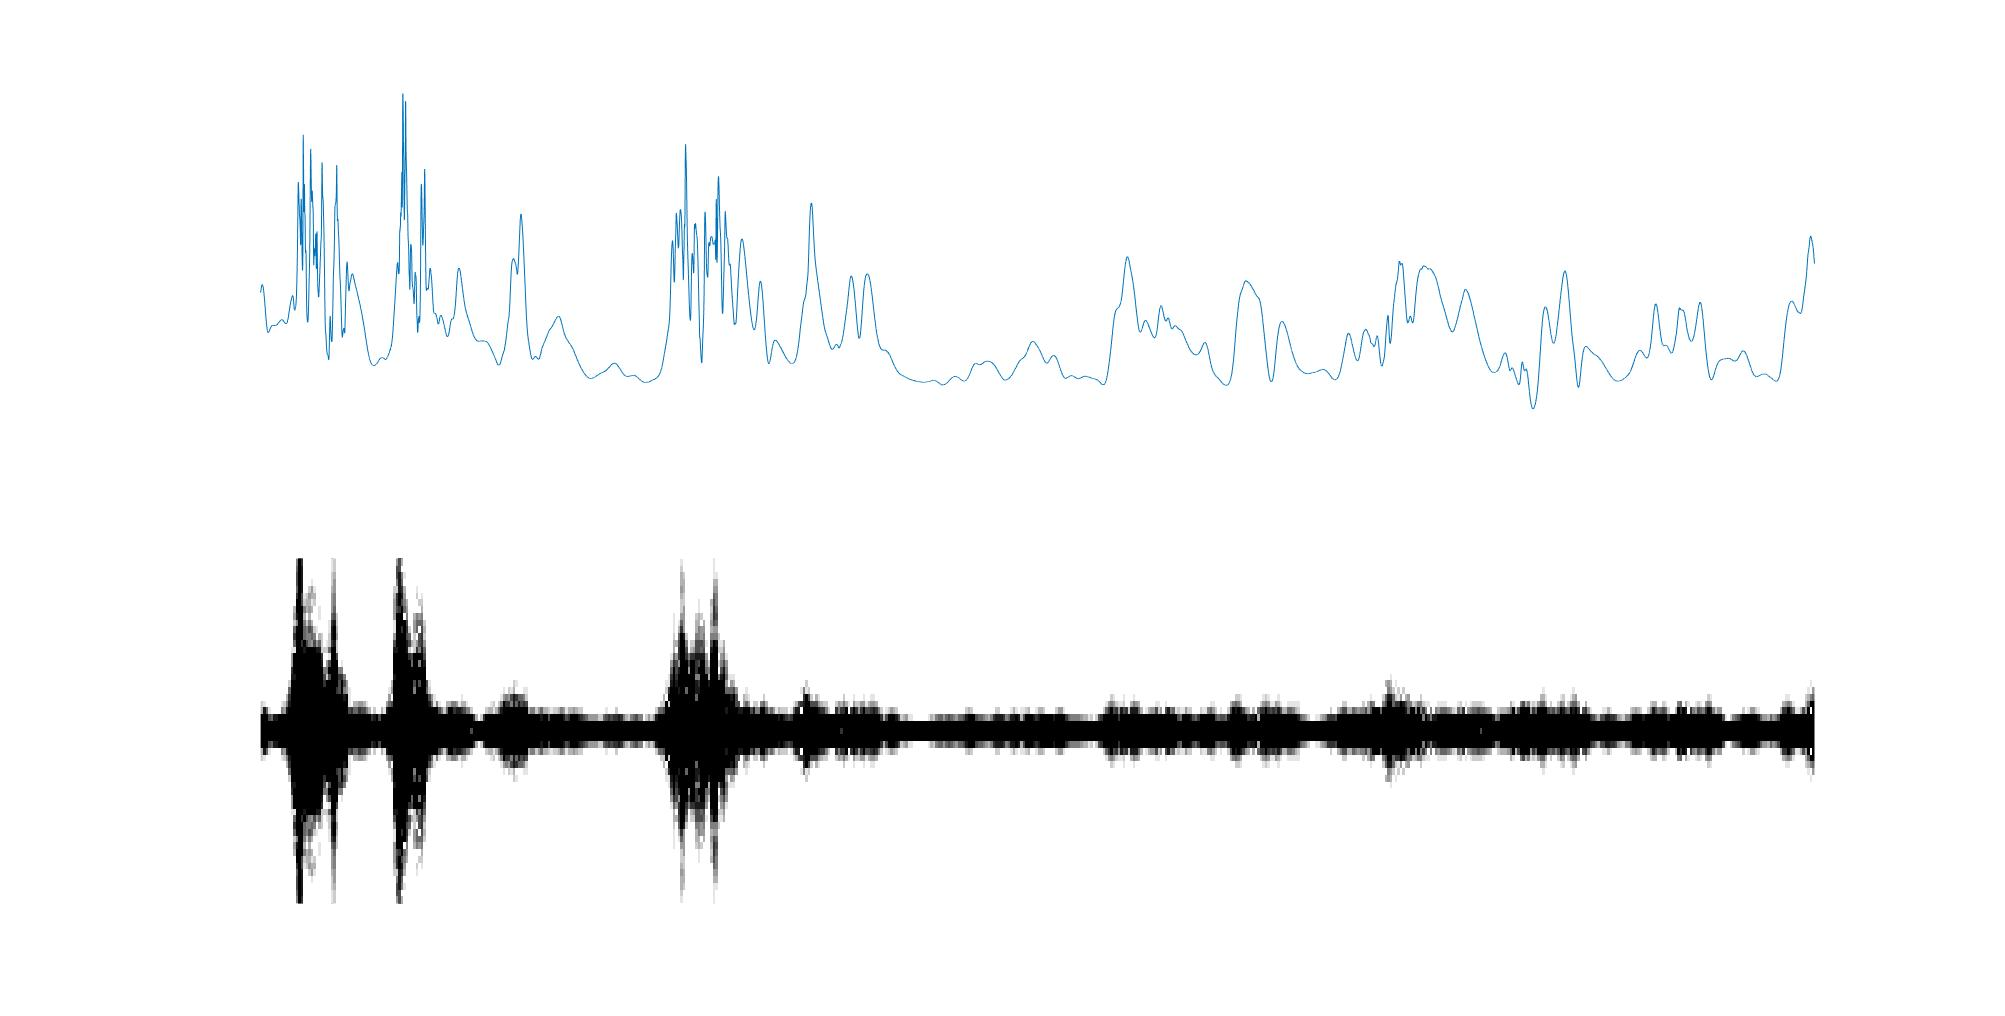spot: (670, 568, 741, 901), (290, 557, 341, 919), (392, 556, 427, 911)
